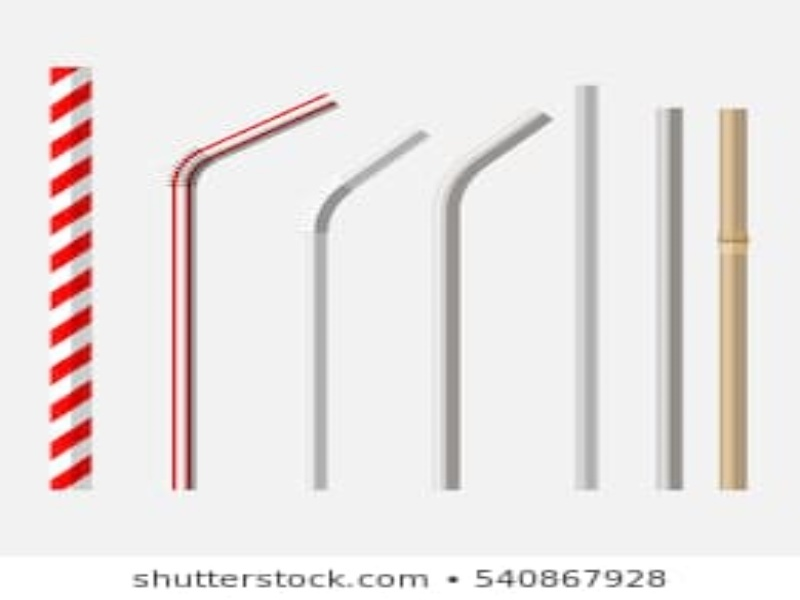straw: (166, 90, 342, 493), (435, 106, 557, 492), (309, 124, 433, 491), (44, 62, 102, 490), (717, 101, 756, 487), (652, 102, 688, 490), (573, 81, 602, 495)
